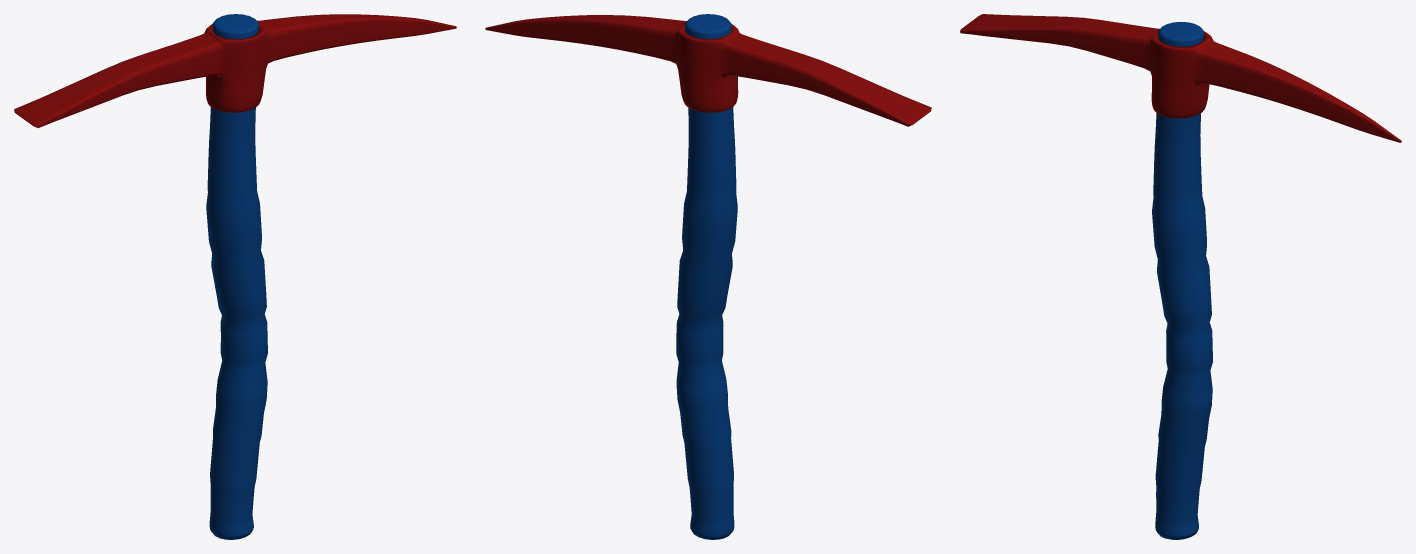
The picture shows the model from 3 angles, left to right: view 1: azimuth 30°, elevation 25°; view 2: azimuth 150°, elevation 25°; view 3: azimuth 330°, elevation 25°; orthographic projection.
Visible parts, largest first — view 1: g Pick_Axe:Pick_Handle, g Pick_Axe:Pick_Head; view 2: g Pick_Axe:Pick_Handle, g Pick_Axe:Pick_Head; view 3: g Pick_Axe:Pick_Handle, g Pick_Axe:Pick_Head.
Part boxes in pixels (bbox=[...]): g Pick_Axe:Pick_Handle: bbox=[206, 14, 267, 539]; g Pick_Axe:Pick_Head: bbox=[14, 14, 456, 127]; g Pick_Axe:Pick_Handle: bbox=[676, 14, 737, 539]; g Pick_Axe:Pick_Head: bbox=[485, 15, 931, 126]; g Pick_Axe:Pick_Handle: bbox=[1152, 22, 1212, 539]; g Pick_Axe:Pick_Head: bbox=[960, 14, 1401, 142].
Bounding box in the file's own units: 1.78 × 2 × 0.2002.
